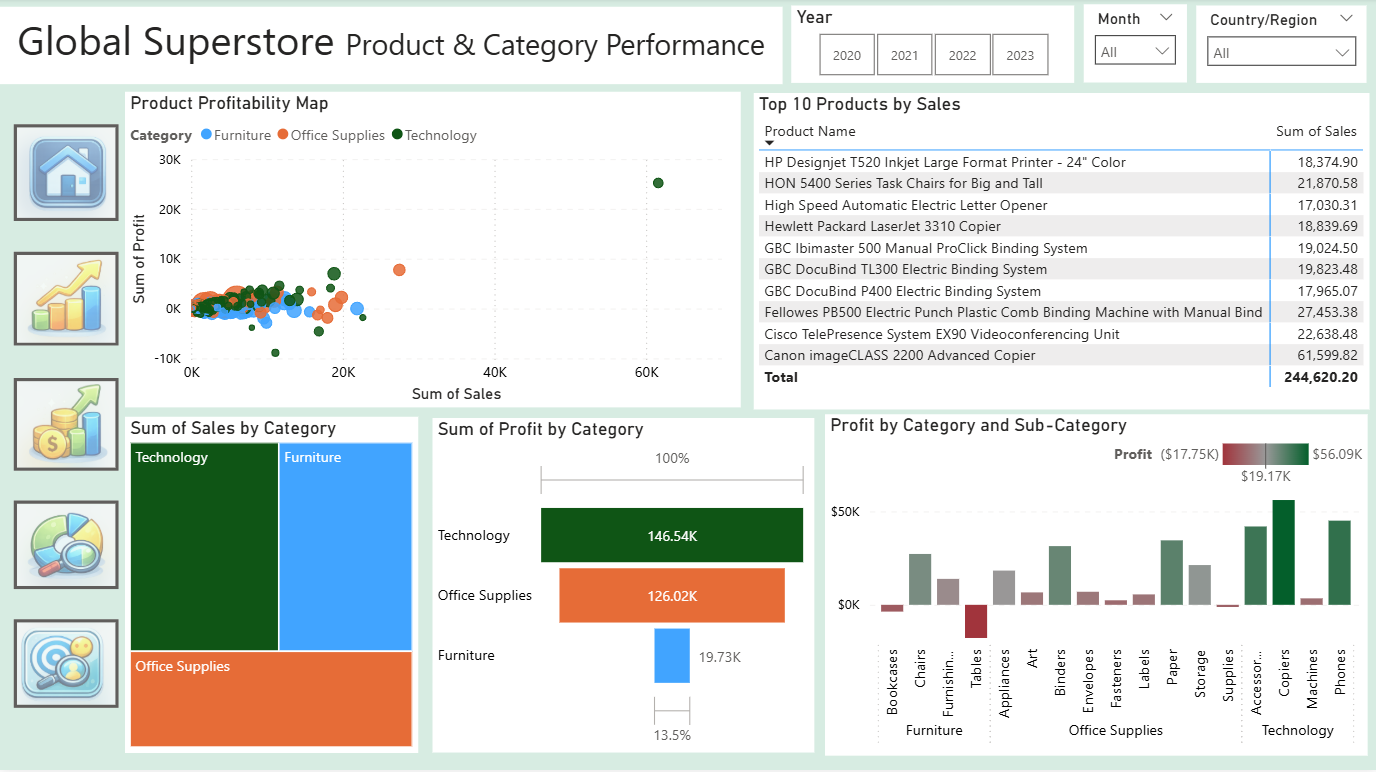

What the dashboard file says about the page in this screenshot:
{"tool":"powerbi","page":{"name":"Page 3","canvas":[1280,720],"ordinal":3},"visuals":[{"type":"scatterChart","title":"Product Profitability Map","fields":{"Category":["orders.Product Name"],"X":["Sum(orders.Sales)"],"Y":["Sum(orders.Profit)"],"Size":["Sum(orders.Quantity)"],"Series":["orders.Category"]},"box":[116.2,87.5,572.5,293.8],"z":0},{"type":"funnel","fields":{"Category":["orders.Category"],"Y":["Sum(orders.Profit)"]},"box":[402.5,391.2,355,311.2],"z":1000},{"type":"treemap","fields":{"Group":["orders.Category"],"Values":["Sum(orders.Sales)"]},"box":[116.2,390,272.5,312.5],"z":2000},{"type":"pivotTable","title":"Top 10 Products by Sales","fields":{"Rows":["orders.Product Name"],"Values":["Sum(orders.Sales)"]},"box":[701.2,88.1,572.8,294.6],"z":3000},{"type":"textbox","box":[0,7.8,727.6,71.8],"z":4000},{"type":"slicer","fields":{"Values":["orders.Country/Region"]},"box":[1112.8,7.6,158.6,71.8],"z":5000},{"type":"slicer","fields":{"Values":["DateTable.Month"]},"box":[1008.3,6.3,95.7,73],"z":6000},{"type":"slicer","title":"Year","fields":{"Values":["DateTable.Year"]},"box":[736.4,7.6,263.1,71.8],"z":7000},{"type":"columnChart","fields":{"Category":["orders.Category","orders.Sub-Category"],"Y":["Key_Measure.Profit"]},"box":[767.9,387.7,504.8,317.2],"z":8000},{"type":"group","id":"g1","title":"Group 1","box":[12.5,117.5,97.5,542.5],"z":9000},{"type":"actionButton","box":[12.5,117.5,97.5,90],"z":9000,"group":"g1"},{"type":"actionButton","box":[12.5,236.3,97.5,87.5],"z":10000,"group":"g1"},{"type":"actionButton","box":[12.5,353.7,97.5,86.2],"z":11000,"group":"g1"},{"type":"actionButton","box":[12.5,467.5,97.5,82.5],"z":12000,"group":"g1"},{"type":"actionButton","box":[12.5,577.5,97.5,82.5],"z":13000,"group":"g1"}]}

Visuals, with their boxes in screenshot pixels (x1, y1, x2, y2), scaled from the page's 1280x720 canvas onto the 1376x772 screenshot:
"Product Profitability Map" scatterChart: 125 94 740 409
funnel - orders.Category x Sum(orders.Profit): 433 419 814 753
treemap - orders.Category x Sum(orders.Sales): 125 418 418 753
"Top 10 Products by Sales" pivotTable: 754 94 1370 410
textbox: 0 8 782 85
slicer - orders.Country/Region: 1196 8 1367 85
slicer - DateTable.Month: 1084 7 1187 85
"Year" slicer: 792 8 1074 85
columnChart - orders.Category x orders.Sub-Category: 825 416 1368 756
"Group 1" group: 13 126 118 708
actionButton: 13 126 118 222
actionButton: 13 253 118 347
actionButton: 13 379 118 472
actionButton: 13 501 118 590
actionButton: 13 619 118 708
